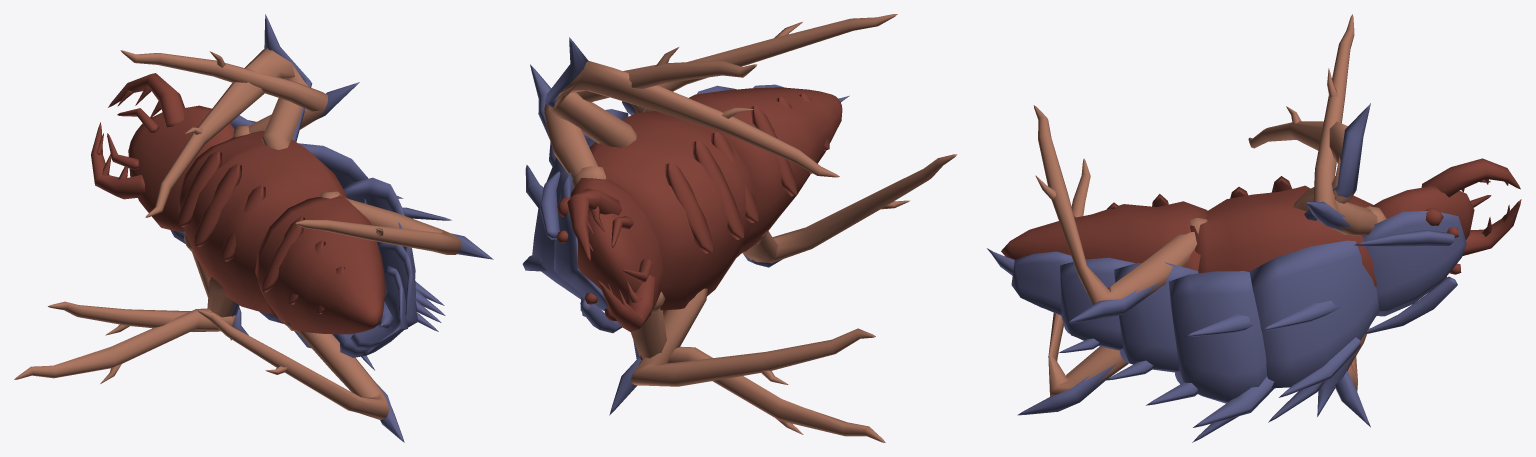
File: big-biter-corpse-3.glb
3 views of the same model, side by side, from view 1: azimuth 30°, elevation 25°; view 2: azimuth 150°, elevation 25°; view 3: azimuth 270°, elevation 25° (orthographic). The views are drawn at different scales.
Parts seen in each view (by area): view 1: body; view 2: body; view 3: body.
Boxes of the visible parts, x1,y1,x2,y2 form: body: [14, 14, 493, 442]; body: [522, 14, 957, 442]; body: [987, 14, 1521, 442].
Bounding box in the file's own units: 3 × 2.57 × 3.55.
